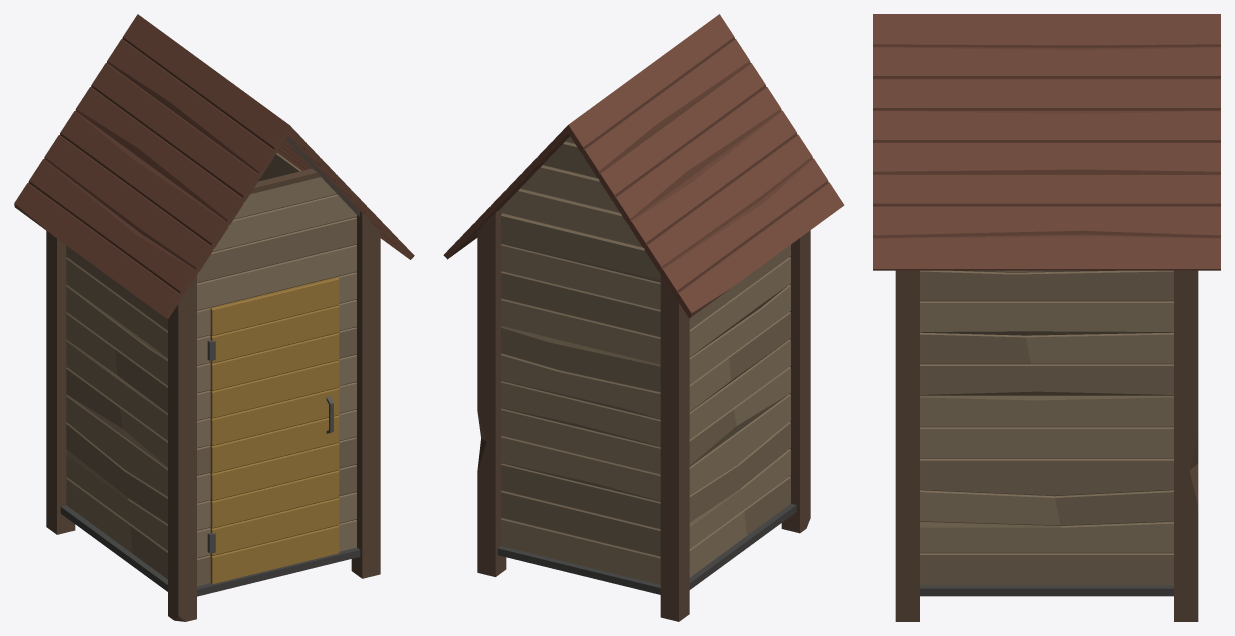
Rendered from SM_Props_City_Beach_Outhouse.fbx.
3 views of the same model, side by side, from view 1: azimuth 30°, elevation 25°; view 2: azimuth 150°, elevation 25°; view 3: azimuth 270°, elevation 25° (orthographic). The views are drawn at different scales.
Parts seen in each view (by area): view 1: SM_Props_City_Beach_Outhouse, SM_Props_City_Beach_Outhouse_Door; view 2: SM_Props_City_Beach_Outhouse; view 3: SM_Props_City_Beach_Outhouse.
Part boxes in pixels (bbox=[...]): SM_Props_City_Beach_Outhouse: bbox=[14, 14, 414, 621]; SM_Props_City_Beach_Outhouse_Door: bbox=[210, 277, 339, 584]; SM_Props_City_Beach_Outhouse: bbox=[443, 14, 844, 621]; SM_Props_City_Beach_Outhouse: bbox=[873, 14, 1220, 621].
Size of the model in its own units: 191 by 350 by 200.
